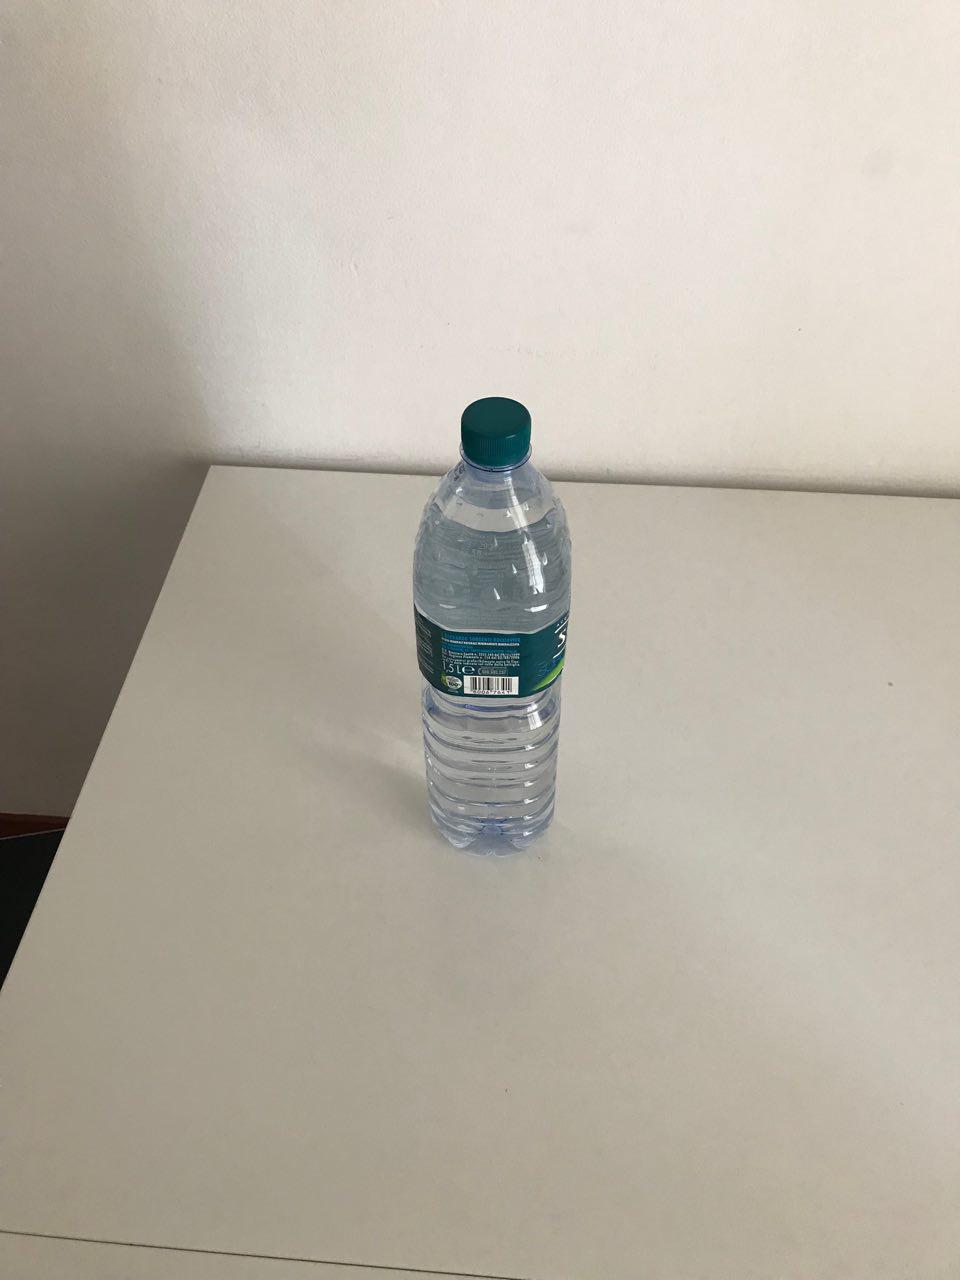san_bernardo: (410, 396, 574, 861)
